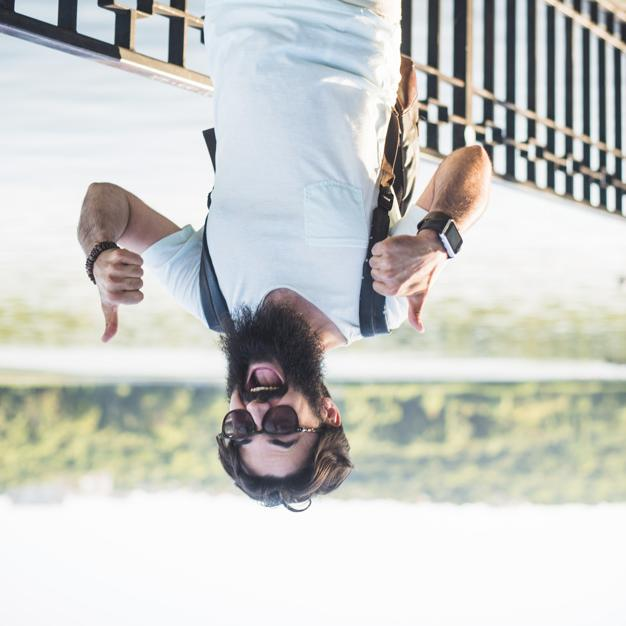thumbsdown: (369, 238, 424, 333), (101, 249, 144, 344)
